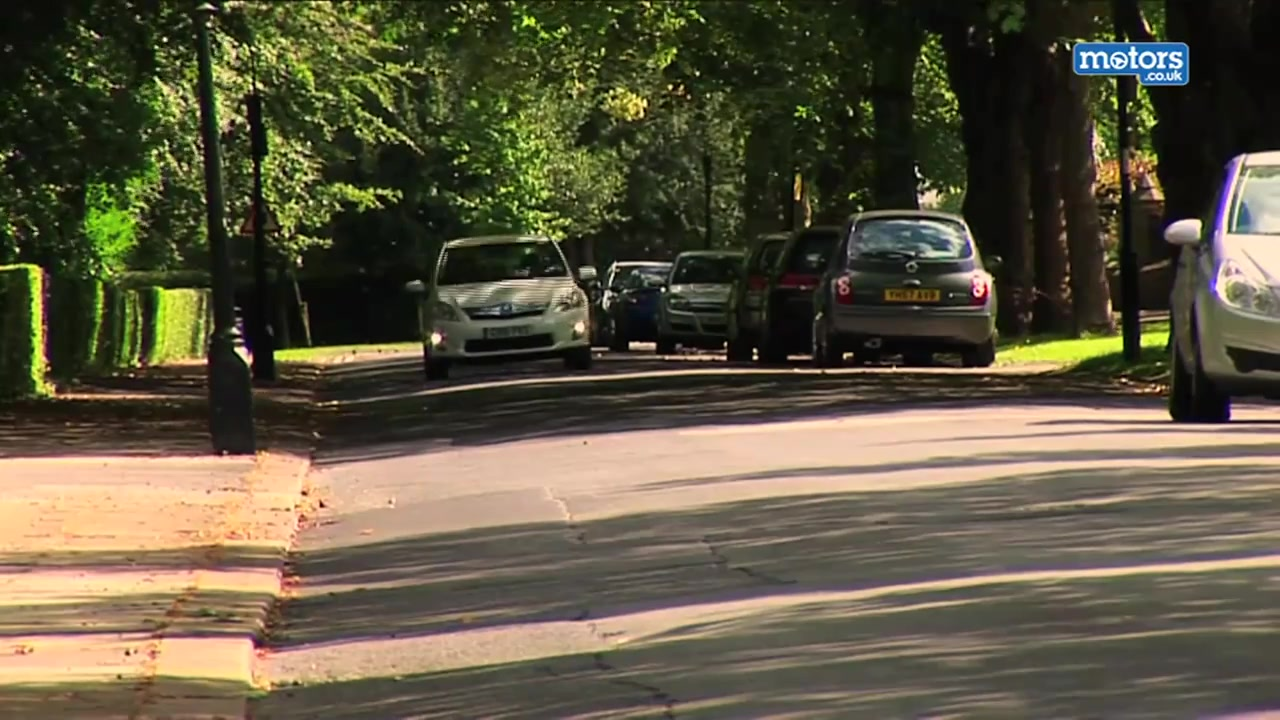car: (807, 204, 1012, 370), (1168, 145, 1280, 427), (405, 235, 602, 377), (768, 226, 855, 356), (655, 246, 747, 351), (591, 258, 679, 357), (730, 230, 796, 361)
